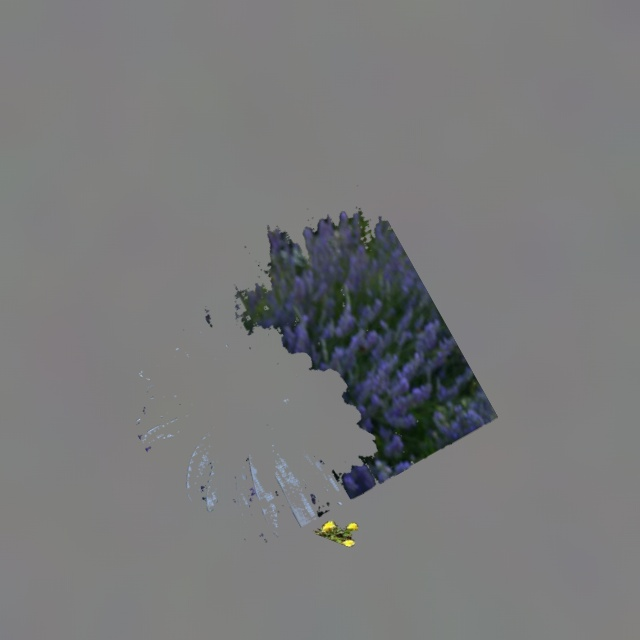daisy: (136, 207, 497, 539)
rose: (315, 519, 357, 546)
